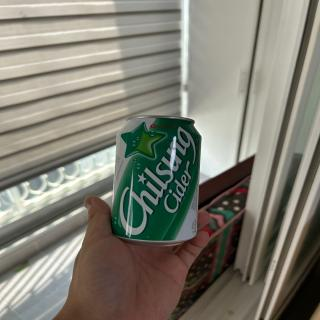chilsung: (111, 112, 205, 246)
